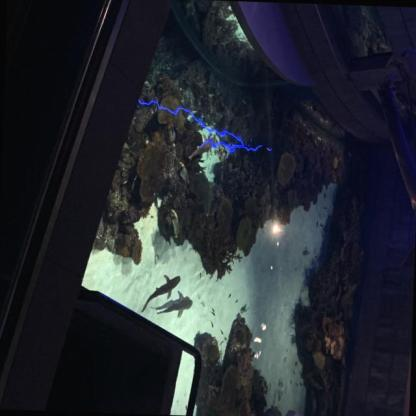fish: (168, 209, 180, 237), (177, 162, 188, 181), (168, 121, 174, 136)
shark: (141, 273, 181, 314), (157, 290, 193, 319), (188, 135, 216, 162)
